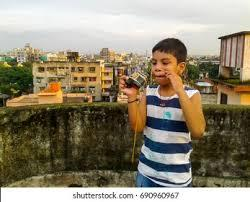Human: (120, 35, 209, 198)
